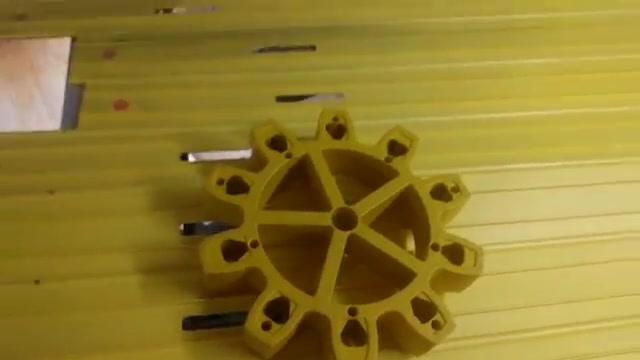gear: (181, 94, 491, 359)
